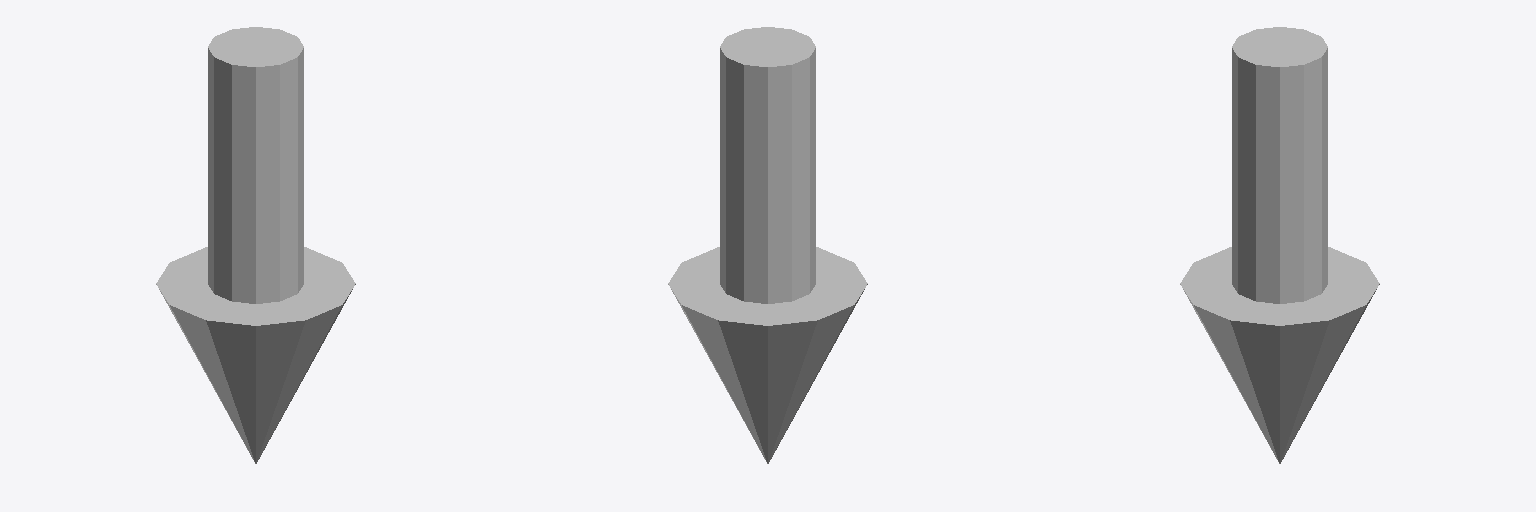
Rendered from Arrow.obj.
3 views of the same model, side by side, from view 1: azimuth 30°, elevation 25°; view 2: azimuth 150°, elevation 25°; view 3: azimuth 270°, elevation 25° (orthographic).
Parts seen in each view (by area): view 1: Cube; view 2: Cube; view 3: Cube.
Part boxes in pixels (bbox=[...]): Cube: bbox=[156, 27, 355, 463]; Cube: bbox=[668, 27, 867, 463]; Cube: bbox=[1180, 27, 1379, 463].
Size of the model in its own units: 2 by 4.61 by 2.